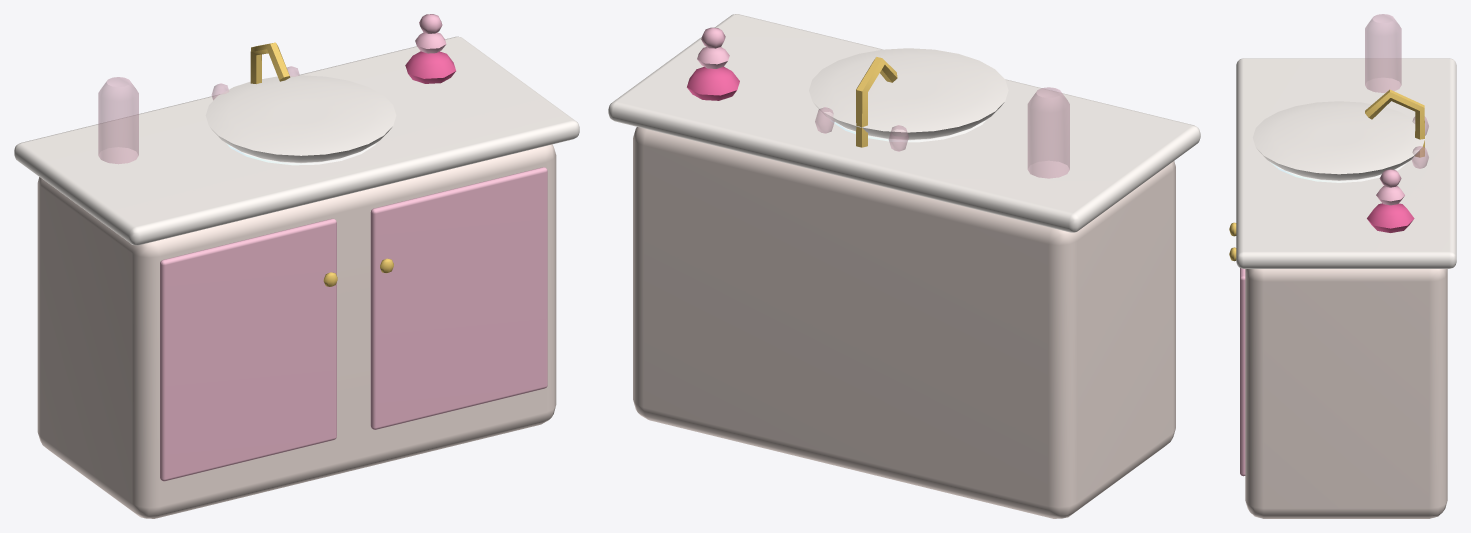
File: bath_vanity_sink.glb
3 views of the same model, side by side, from view 1: azimuth 30°, elevation 25°; view 2: azimuth 150°, elevation 25°; view 3: azimuth 270°, elevation 25° (orthographic). The views are drawn at different scales.
Visible parts, largest first — view 1: bath_vanity_sink; view 2: bath_vanity_sink; view 3: bath_vanity_sink.
Part boxes in pixels (left/top/right/bottom): bath_vanity_sink: left=14, top=14, right=579, bottom=518; bath_vanity_sink: left=608, top=14, right=1200, bottom=518; bath_vanity_sink: left=1229, top=14, right=1456, bottom=518.
Size of the model in its own units: 1.28 by 1.03 by 0.619.
